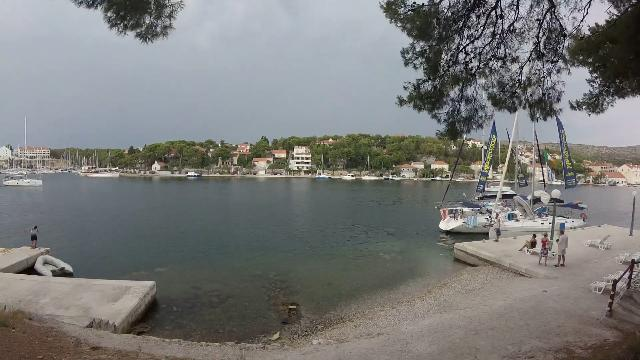Sailboat: (2, 170, 50, 190)
